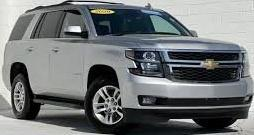SUV: (4, 2, 254, 133)
